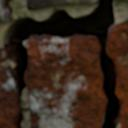brick: (0, 49, 20, 127), (0, 0, 11, 23)
broken_brick: (24, 36, 103, 127), (107, 18, 127, 127), (25, 0, 96, 10), (116, 0, 127, 1)
crack: (0, 0, 125, 127), (16, 112, 23, 127)
